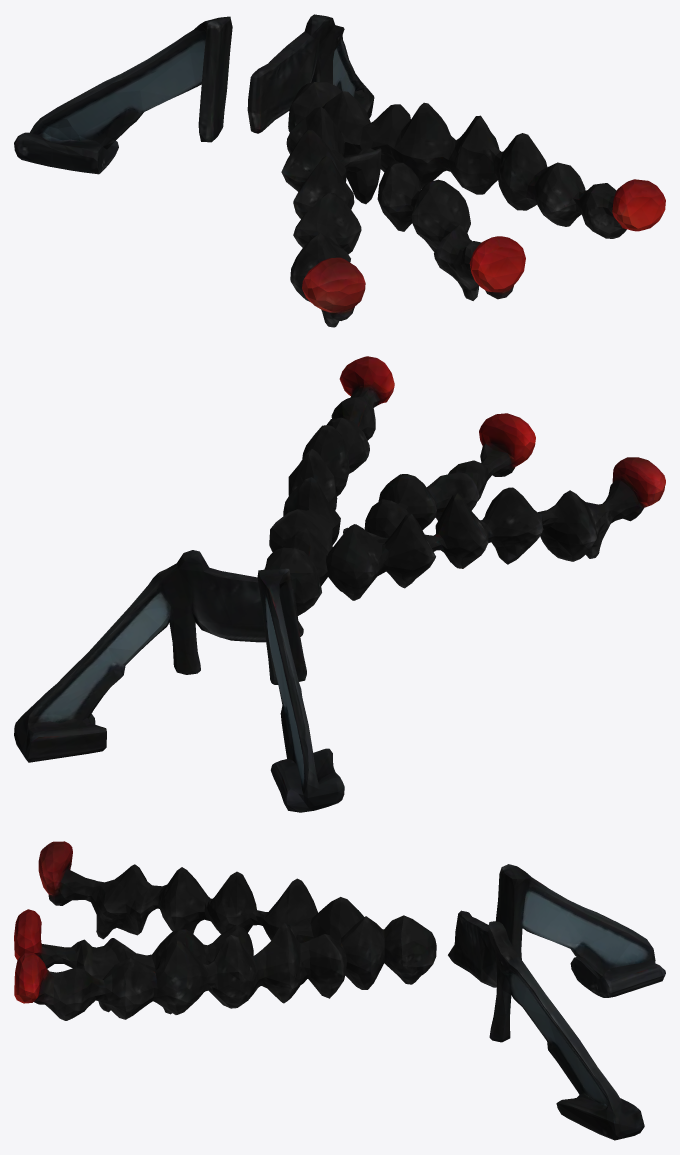
The picture shows the model from 3 angles, top to bottom: view 1: azimuth 30°, elevation 25°; view 2: azimuth 150°, elevation 25°; view 3: azimuth 270°, elevation 25°; orthographic projection. The views are drawn at different scales.
Parts seen in each view (by area): view 1: geometry_0; view 2: geometry_0; view 3: geometry_0.
Boxes of the visible parts, x1,y1,x2,y2 form: geometry_0: (14, 14, 665, 327); geometry_0: (14, 356, 665, 812); geometry_0: (14, 841, 665, 1140).
Bounding box in the file's own units: 0.6052 × 0.3051 × 0.9977.
1 material, 1 textured.
